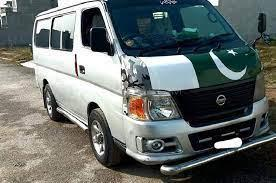Van: (29, 1, 276, 173)
